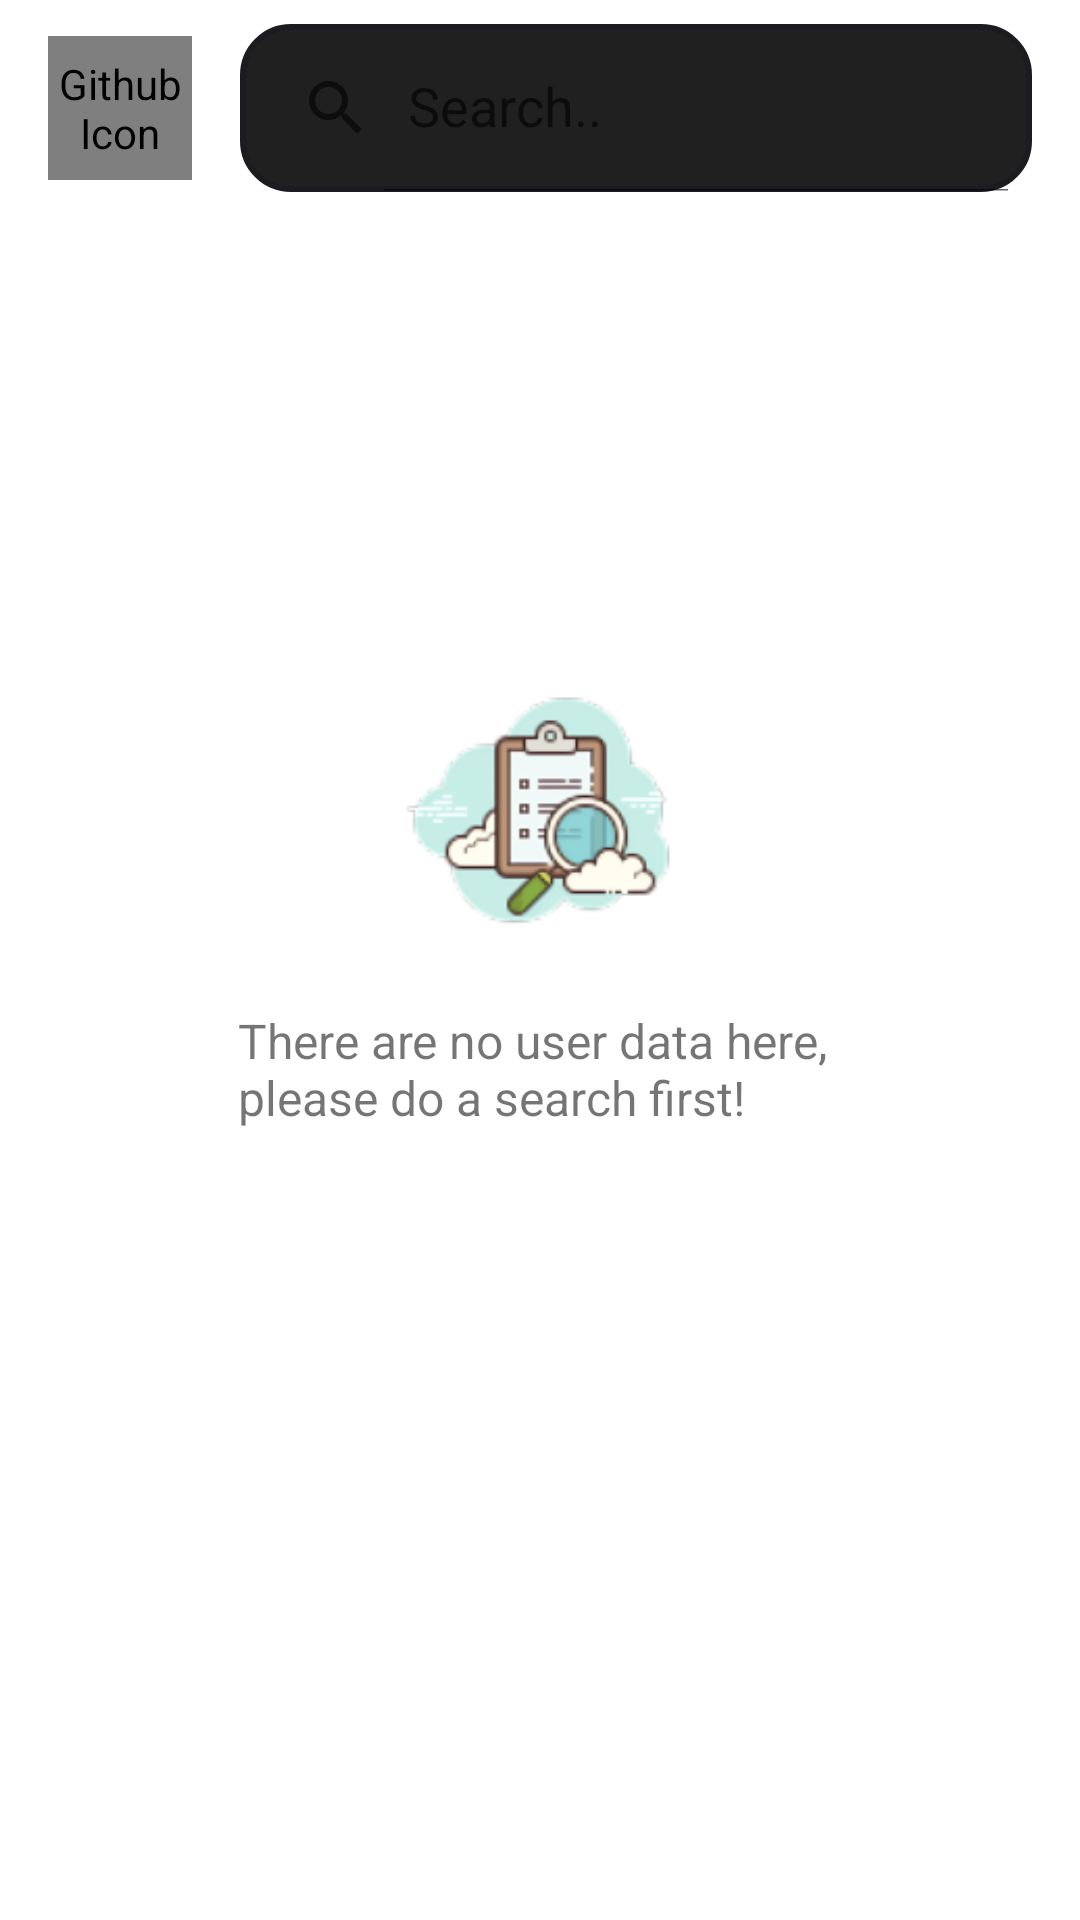

Screen size 1080px×1920px. Icon name, then its box in pixels as rect(x1, y1, x2, y2):
Empty list icon: rect(409, 697, 669, 923)
